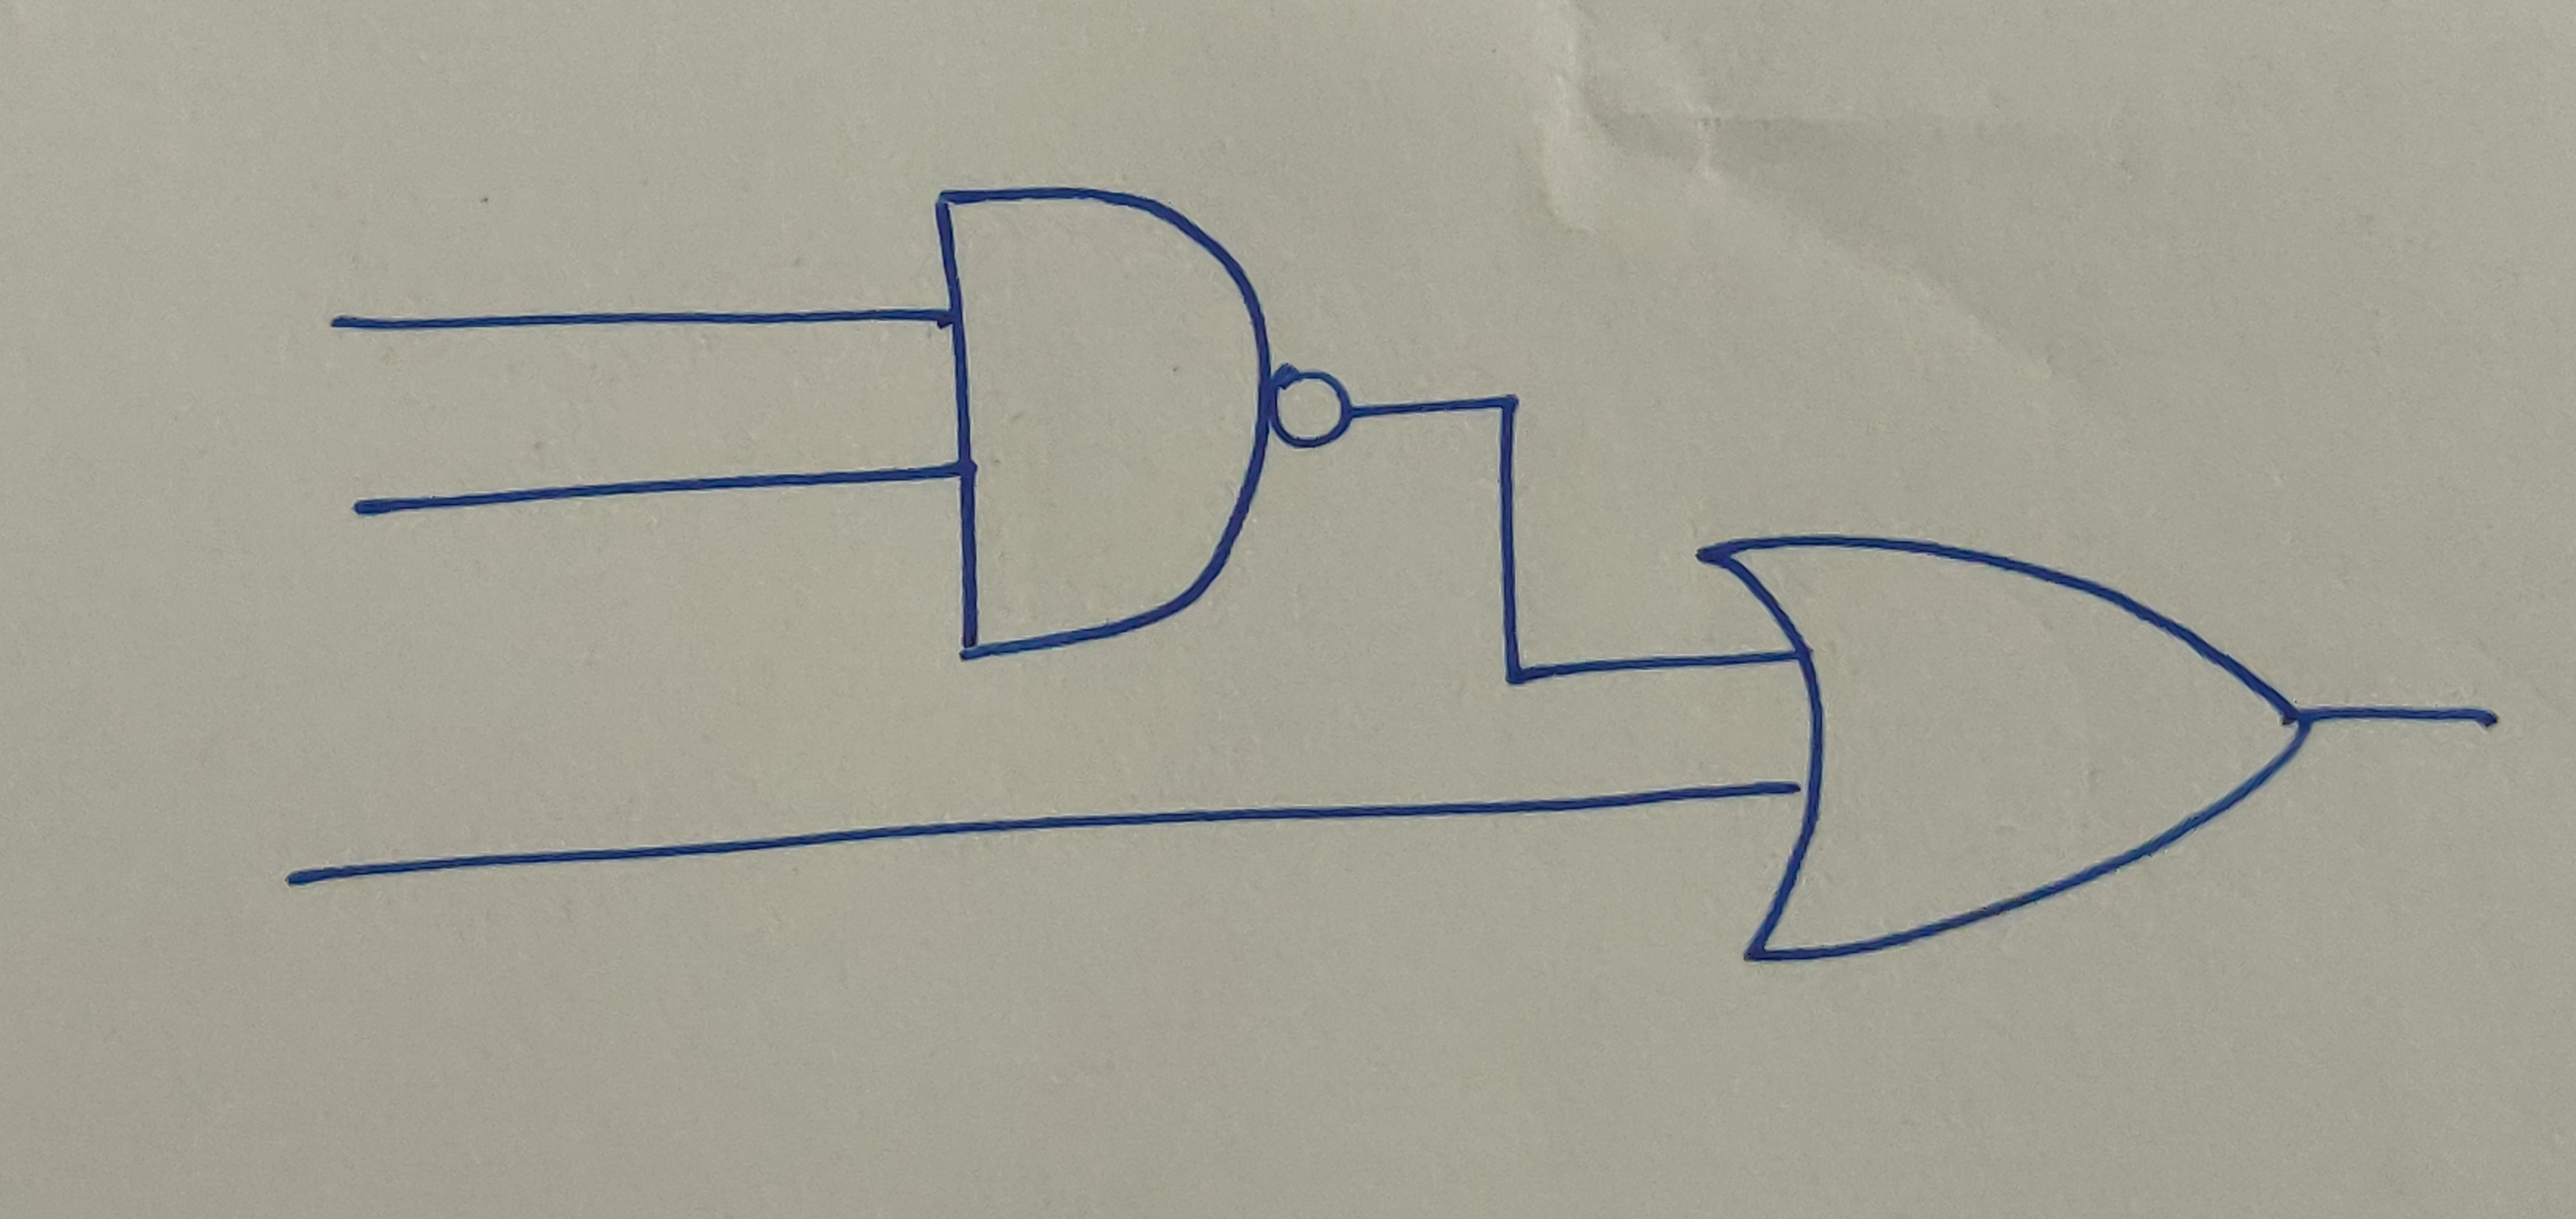and: (928, 181, 1275, 662)
not: (1268, 352, 1360, 458)
or: (1682, 527, 2338, 976)
